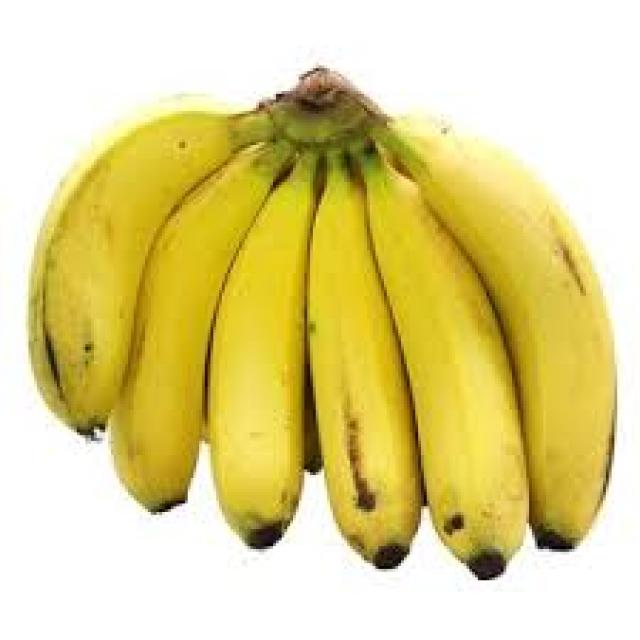banana: (26, 63, 617, 580)
